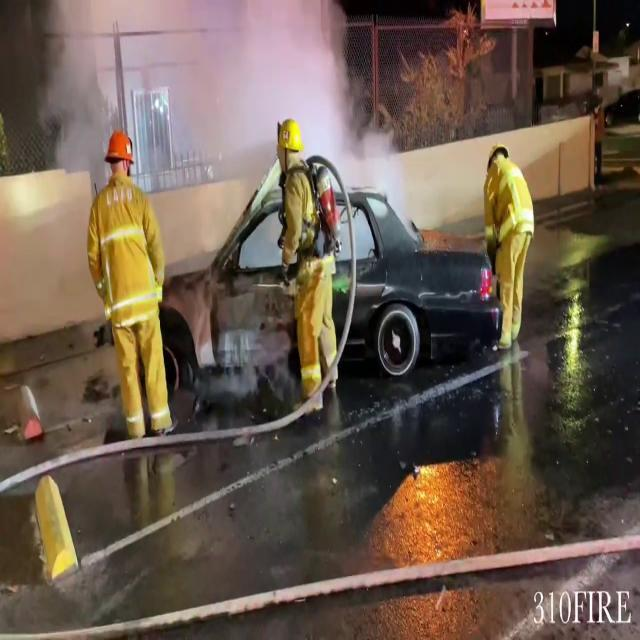Smoke: (26, 0, 393, 207)
